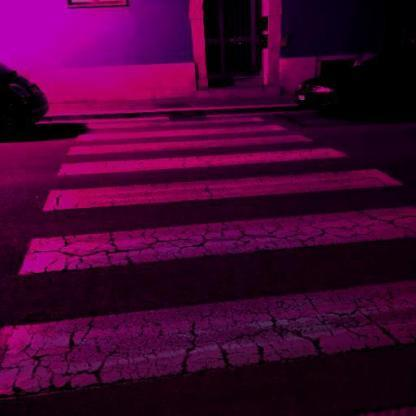crosswalk: (40, 144, 408, 216)
